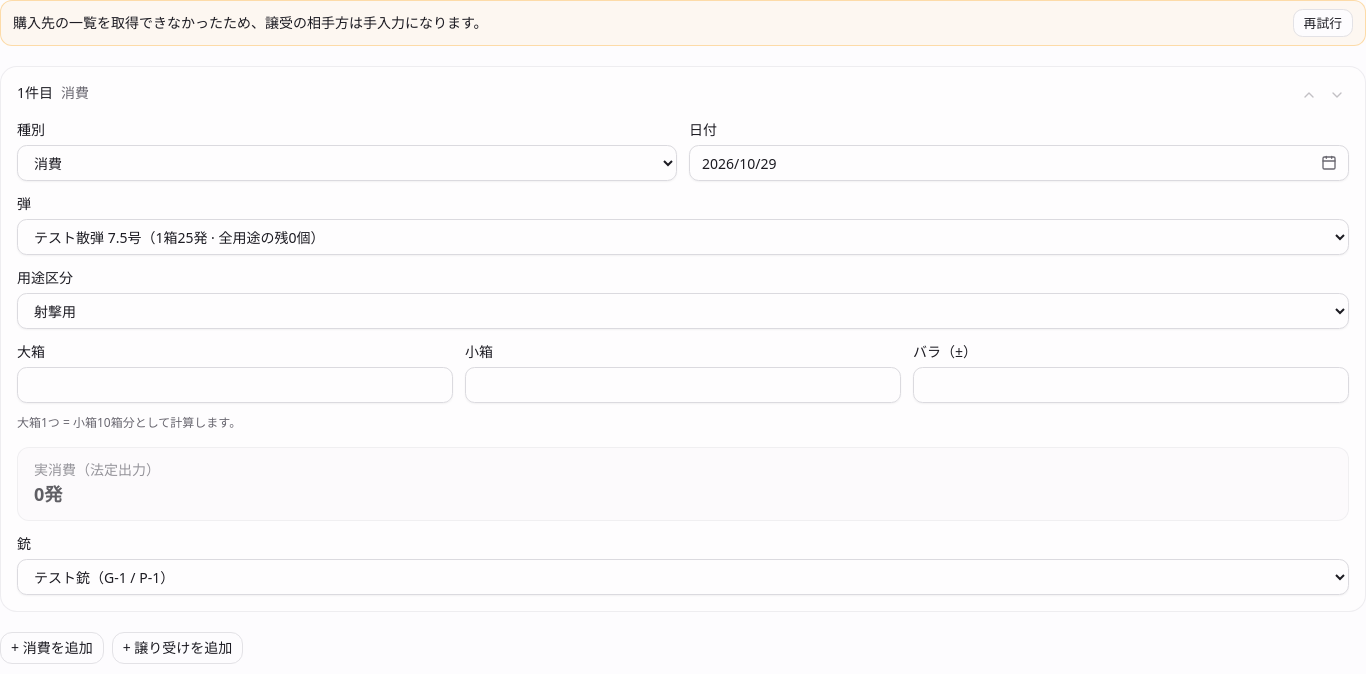
Test: BulkEntryForm › 最初の行は前回の消費、追加した行は直前の行の銃・弾・用途で始める
The image size is (1366, 674).
expect the dropdown labelled "弾" shows "テスト散弾 7.5号（1箱25発 · 全用途の残0個）": met, box [17,219,1349,255]
Select "狩猟用" in the dropdown labelled "用途区分" at (683, 311), box [17,293,1349,329]
(page scrolled)
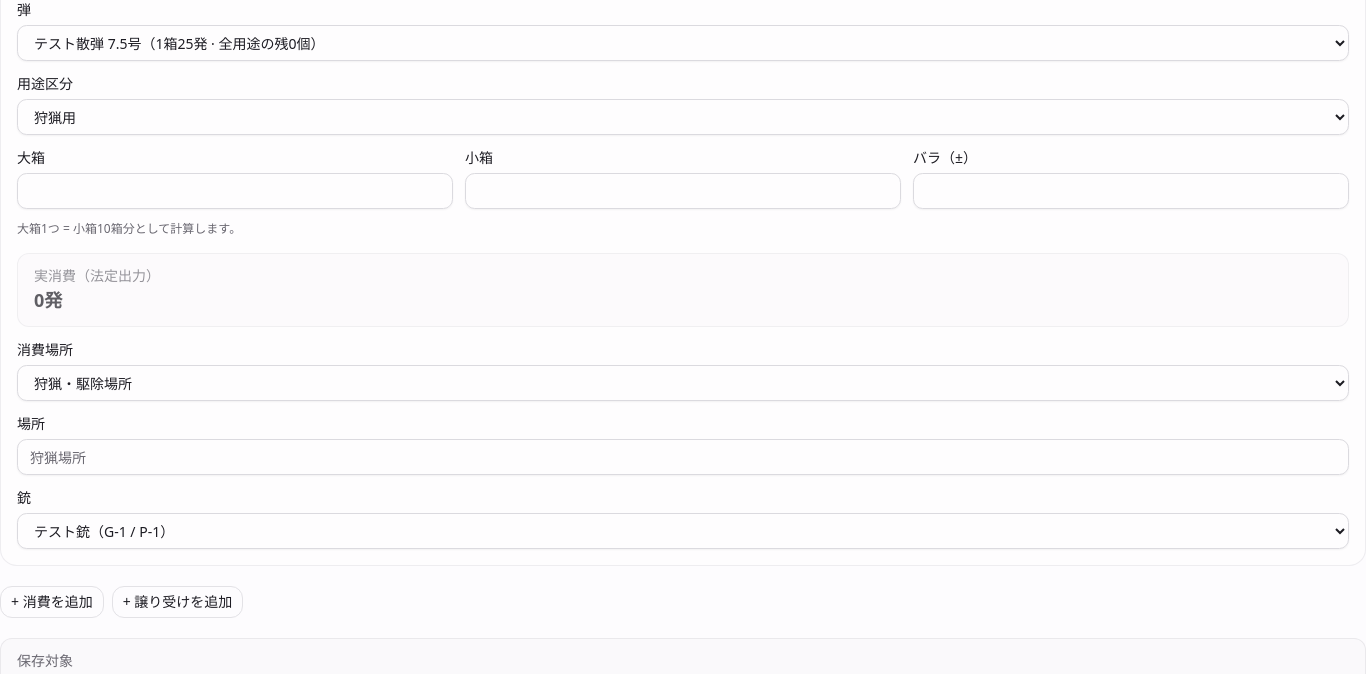
Click the button "+ 消費を追加".
click(52, 602)  # box [0,586,104,618]
(page scrolled)
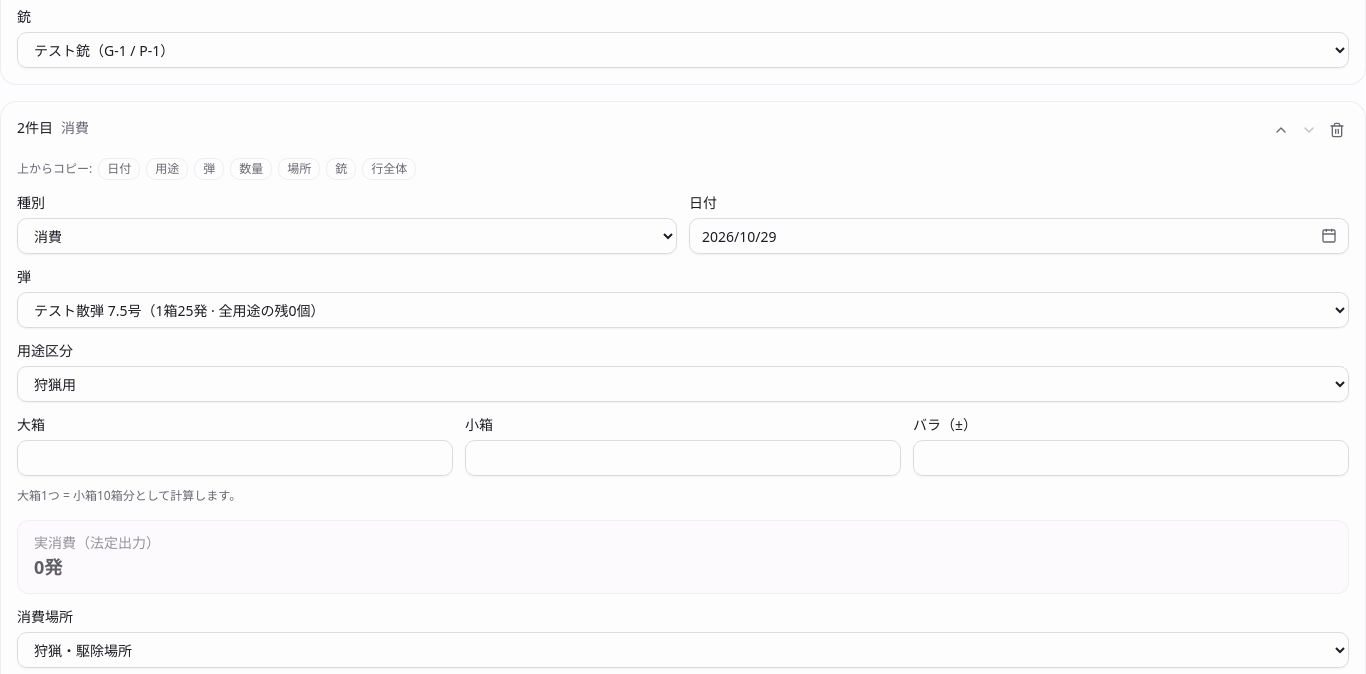
expect the dropdown labelled "弾" shows "テスト散弾 7.5号（1箱25発 · 全用途の残0個）": met, box [17,292,1349,328]
expect the dropdown labelled "用途区分" shows "狩猟用": met, box [17,366,1349,402]
